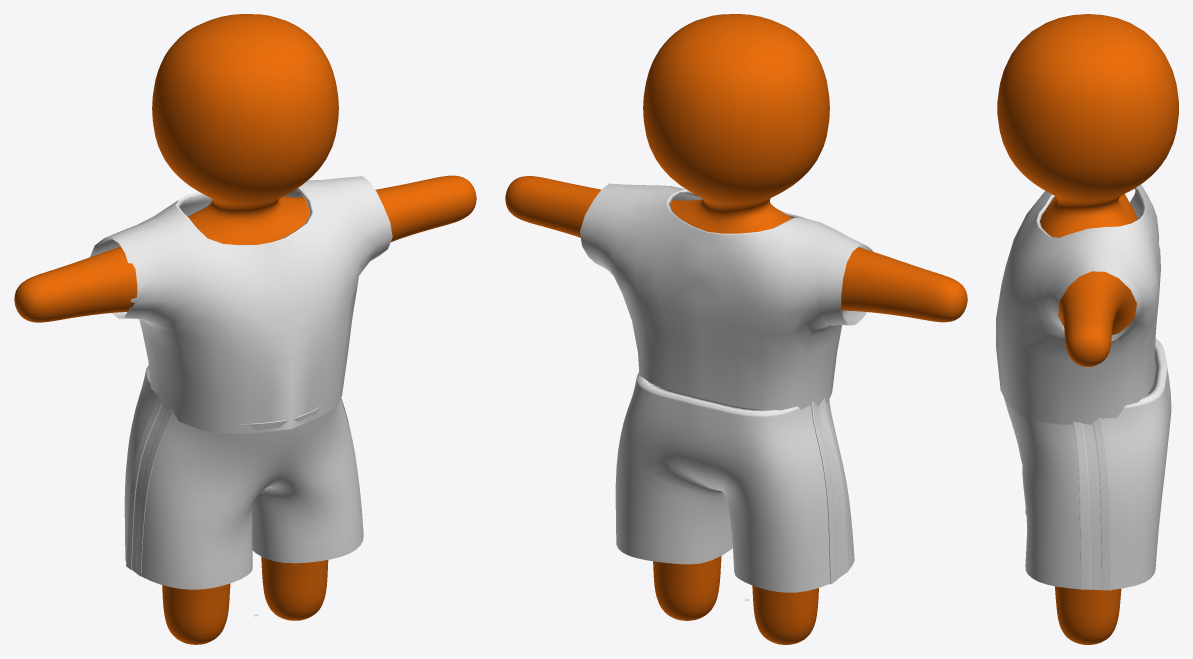
The model's file is PlayerDogruEksen.fbx.
The picture shows the model from 3 angles, left to right: view 1: azimuth 30°, elevation 25°; view 2: azimuth 150°, elevation 25°; view 3: azimuth 270°, elevation 25°; orthographic projection. The views are drawn at different scales.
Parts seen in each view (by area): view 1: Stickman, t-shirt-one, pants-one; view 2: Stickman, t-shirt-one, pants-one; view 3: Stickman, t-shirt-one, pants-one.
Part boxes in pixels (bbox=[...]): Stickman: bbox=[14, 14, 476, 644]; t-shirt-one: bbox=[90, 176, 392, 433]; pants-one: bbox=[124, 365, 363, 589]; Stickman: bbox=[505, 14, 967, 644]; t-shirt-one: bbox=[580, 183, 873, 410]; pants-one: bbox=[615, 371, 854, 592]; Stickman: bbox=[997, 14, 1178, 644]; t-shirt-one: bbox=[996, 184, 1160, 424]; pants-one: bbox=[1000, 339, 1171, 590].
Size of the model in its own units: 135 by 171 by 47.75.
